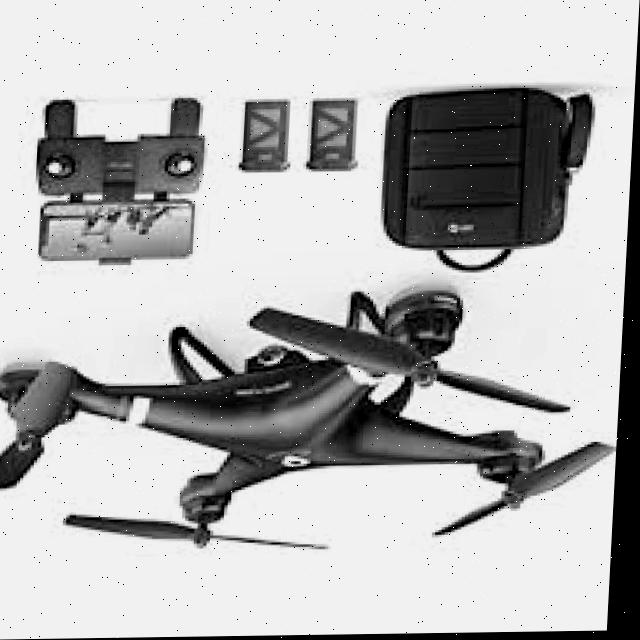drone: (0, 289, 628, 576)
